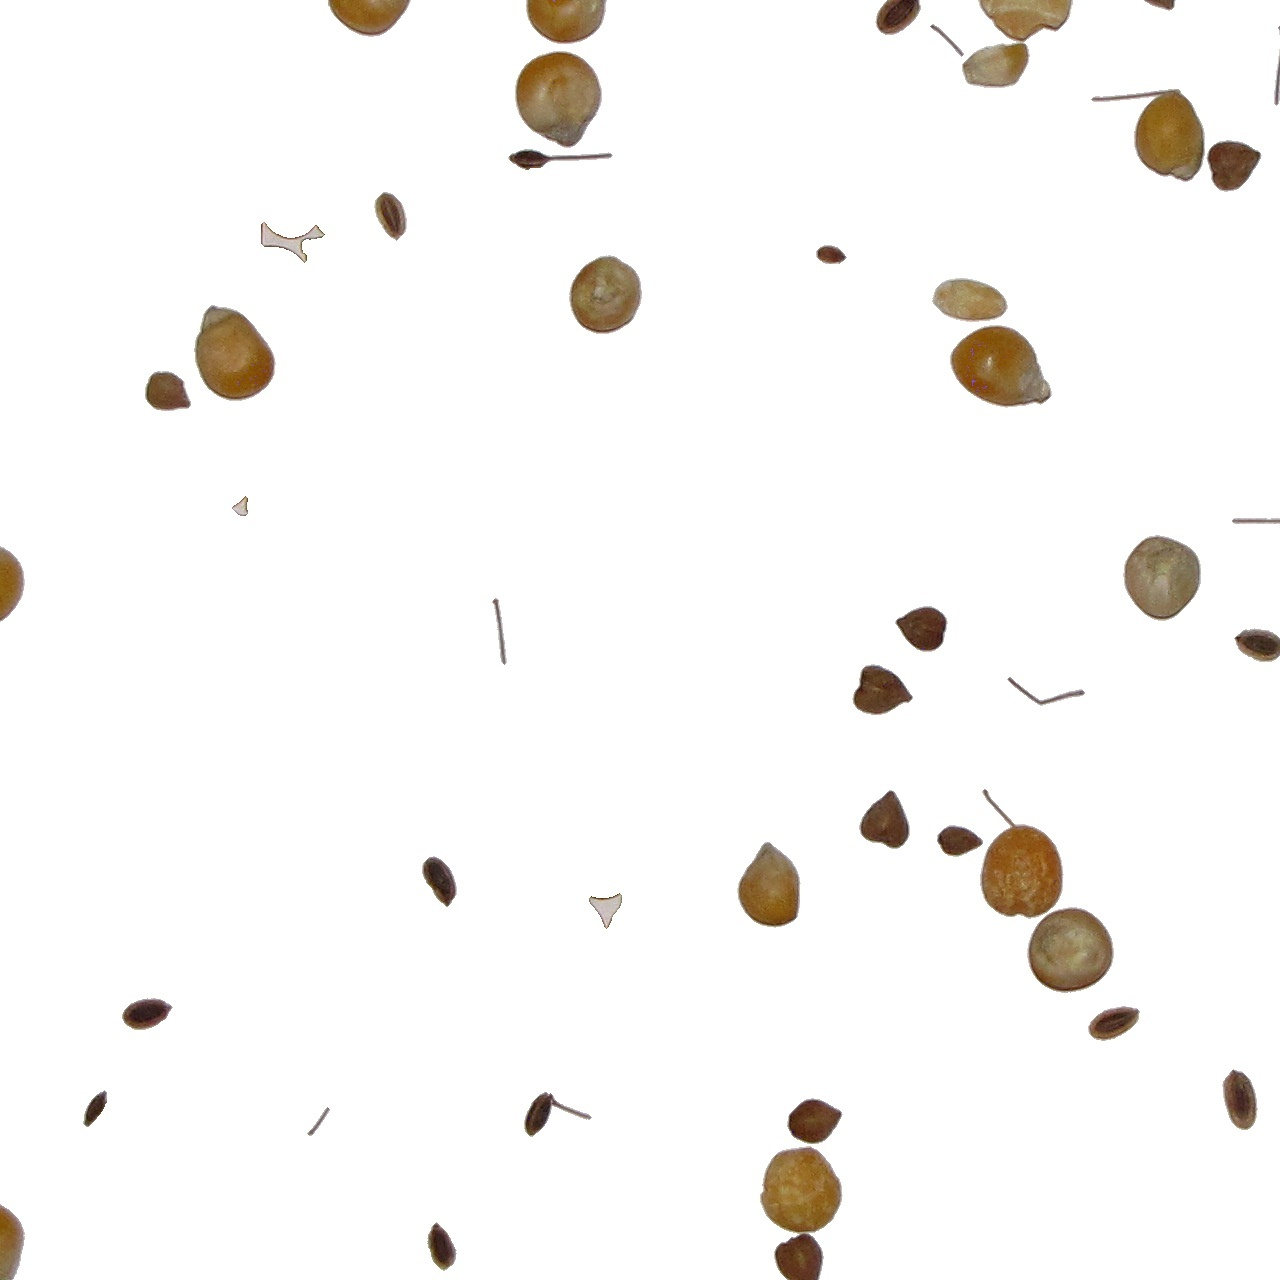buckwheat: (961, 41, 1032, 89), (851, 663, 914, 716), (858, 789, 911, 850), (787, 1097, 844, 1145), (894, 605, 949, 653), (772, 1231, 825, 1280), (421, 855, 458, 908), (121, 998, 173, 1032), (425, 1224, 458, 1275), (86, 1091, 113, 1141), (588, 892, 622, 930), (491, 597, 508, 666), (306, 1107, 331, 1137), (1273, 23, 1280, 107), (231, 495, 248, 517)
dill: (523, 1091, 593, 1138), (254, 222, 320, 264), (373, 191, 408, 241), (815, 244, 847, 265), (1231, 517, 1280, 525)
mais: (979, 821, 1068, 920), (949, 324, 1053, 409), (515, 50, 602, 149), (193, 304, 277, 402), (1026, 906, 1115, 994), (760, 1145, 844, 1235), (1129, 86, 1206, 183), (1122, 535, 1201, 622), (568, 254, 644, 335), (736, 840, 802, 930), (976, 1, 1074, 41), (527, 1, 610, 45), (325, 1, 415, 39)
other: (931, 277, 1009, 324), (1205, 139, 1262, 193), (508, 148, 614, 171), (1006, 676, 1085, 707), (1221, 1068, 1259, 1131), (1087, 1005, 1141, 1042), (931, 824, 983, 862), (144, 370, 192, 411), (1235, 627, 1280, 663), (930, 23, 965, 57)
